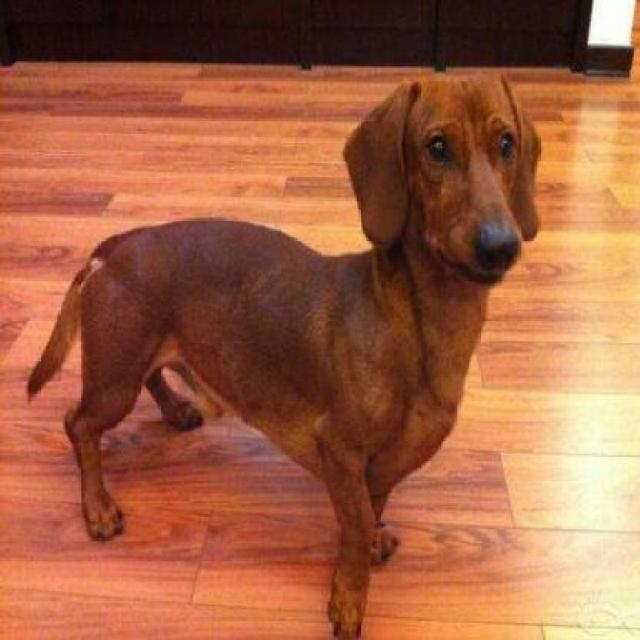Dog: (23, 64, 543, 638)
